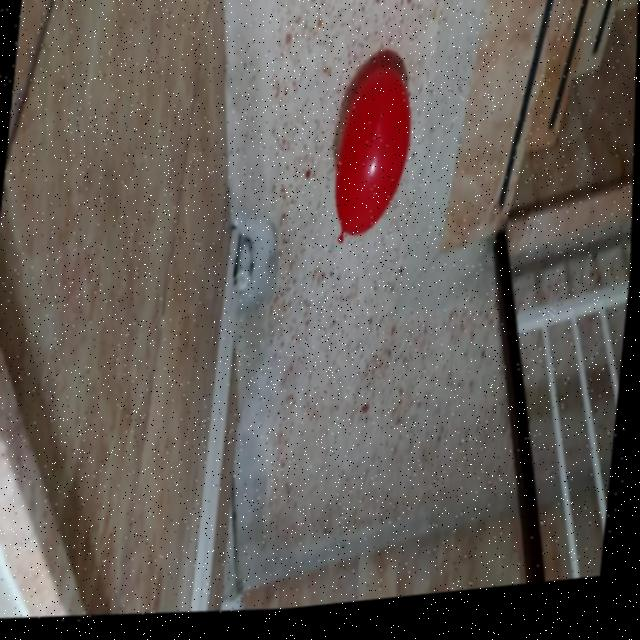balloon: (321, 53, 422, 276)
